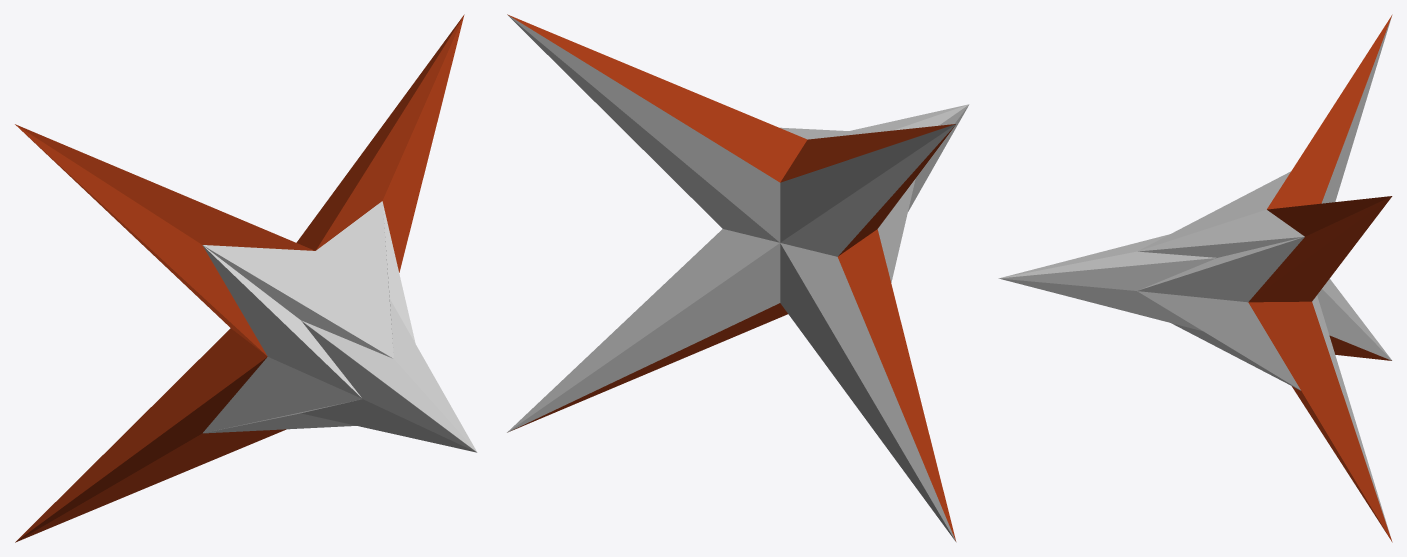
File: EnemyA.obj
3 views of the same model, side by side, from view 1: azimuth 30°, elevation 25°; view 2: azimuth 150°, elevation 25°; view 3: azimuth 270°, elevation 25° (orthographic). The views are drawn at different scales.
Visible parts, largest first — view 1: Cube; view 2: Cube; view 3: Cube.
Boxes of the visible parts, x1,y1,x2,y2 form: Cube: (15, 14, 477, 542); Cube: (507, 14, 969, 542); Cube: (998, 14, 1392, 542).
Size of the model in its own units: 5.33 by 4.74 by 4.88.
